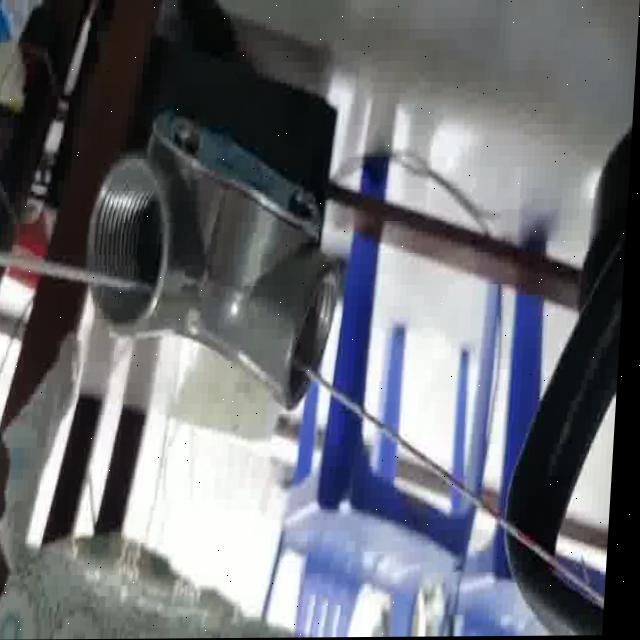Dry: (83, 110, 353, 414)
